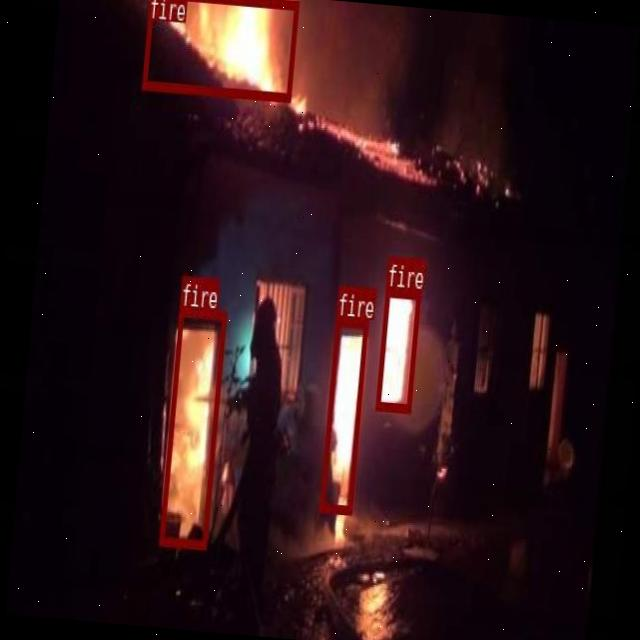fire: (158, 305, 226, 548), (142, 0, 298, 99), (318, 316, 368, 512), (374, 288, 420, 412)
